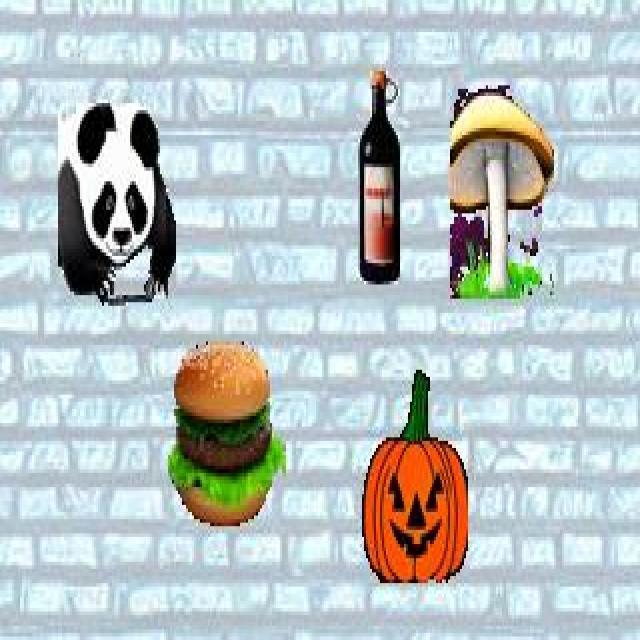Other Objects: (448, 85, 556, 298), (169, 341, 285, 527), (358, 71, 401, 284)
